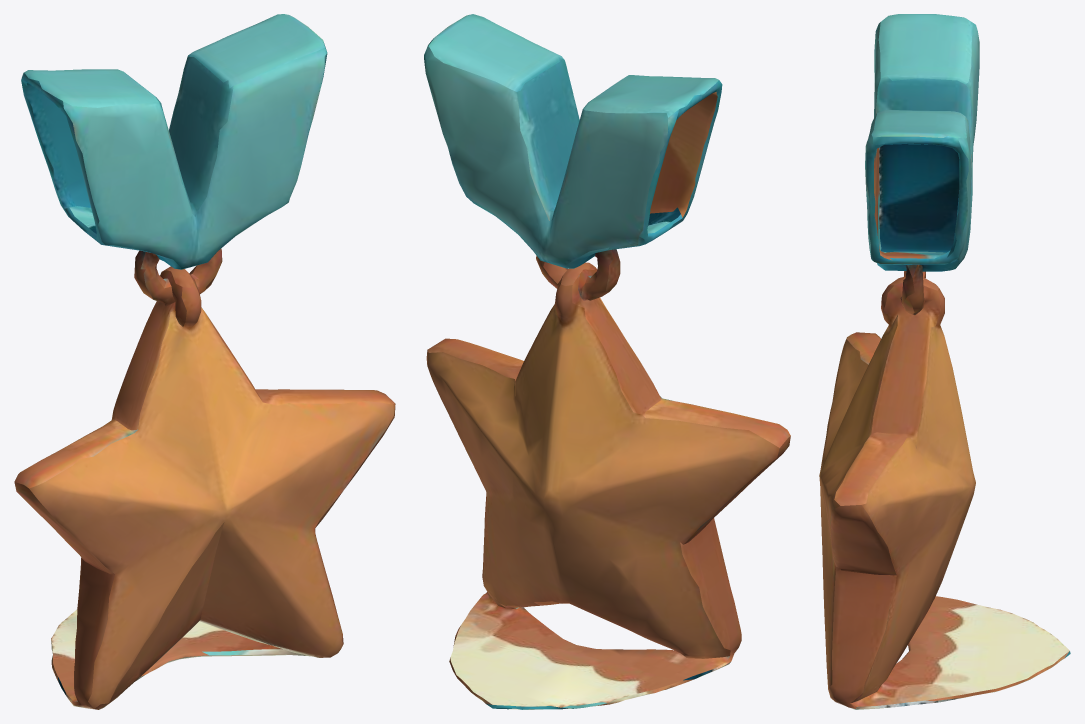
Rendered from medal.glb.
3 views of the same model, side by side, from view 1: azimuth 30°, elevation 25°; view 2: azimuth 150°, elevation 25°; view 3: azimuth 270°, elevation 25° (orthographic). The views are drawn at different scales.
Parts seen in each view (by area): view 1: item_medal; view 2: item_medal; view 3: item_medal.
Part boxes in pixels (x1=…): item_medal: x1=14, y1=14, x2=395, y2=709; item_medal: x1=424, y1=14, x2=790, y2=709; item_medal: x1=819, y1=14, x2=1070, y2=709.
Bounding box in the file's own units: 0.636 × 1 × 0.3938.
1 material, 1 textured.
